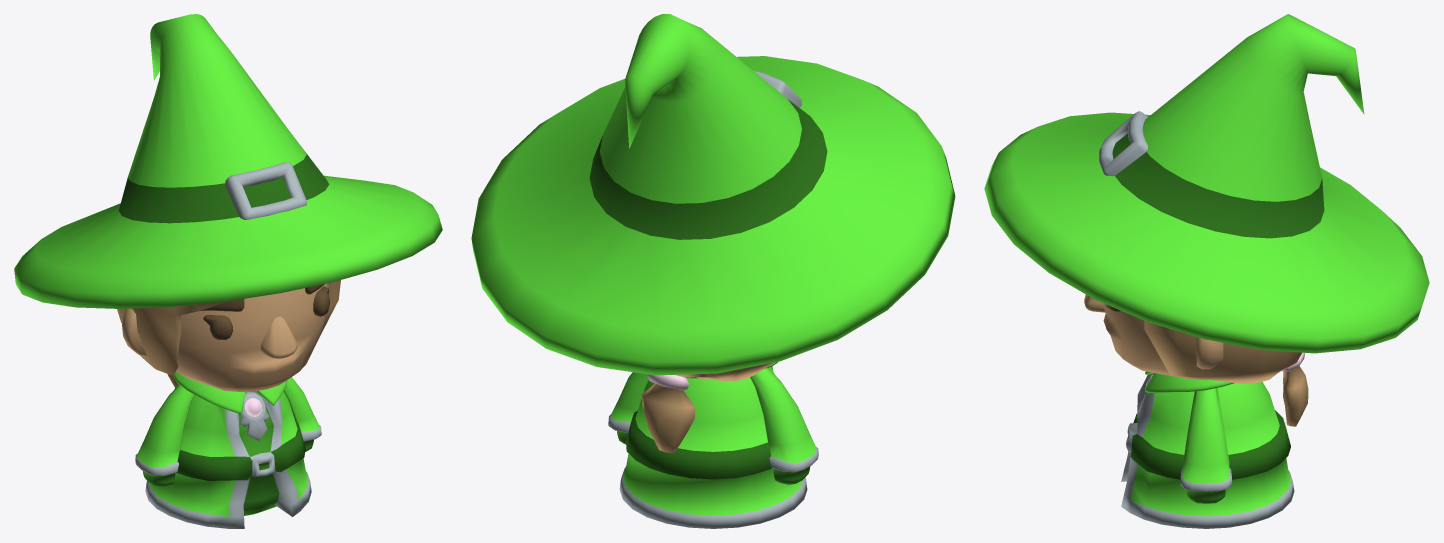
The model's file is mage5.gltf.
The picture shows the model from 3 angles, left to right: view 1: azimuth 30°, elevation 25°; view 2: azimuth 150°, elevation 25°; view 3: azimuth 270°, elevation 25°; orthographic projection. The views are drawn at different scales.
Visible parts, largest first — view 1: character_mageHat, character_mageBody, character_mageHead, character_mageArmRight, character_mageHair, character_mageArnLeft; view 2: character_mageHat, character_mageBody, character_mageArmRight, character_mageHair, character_mageArnLeft; view 3: character_mageHat, character_mageBody, character_mageHair, character_mageArnLeft, character_mageHead.
Part boxes in pixels (x1=…): character_mageHat: x1=14, y1=14, x2=442, y2=308; character_mageBody: x1=145, y1=372, x2=311, y2=528; character_mageHead: x1=122, y1=283, x2=329, y2=391; character_mageArmRight: x1=135, y1=384, x2=194, y2=487; character_mageHair: x1=117, y1=280, x2=340, y2=387; character_mageArnLeft: x1=284, y1=377, x2=321, y2=451; character_mageHat: x1=471, y1=14, x2=955, y2=375; character_mageBody: x1=619, y1=362, x2=807, y2=528; character_mageArmRight: x1=750, y1=368, x2=818, y2=484; character_mageHair: x1=641, y1=362, x2=774, y2=453; character_mageArnLeft: x1=608, y1=372, x2=648, y2=444; character_mageHat: x1=984, y1=14, x2=1429, y2=353; character_mageBody: x1=1121, y1=371, x2=1294, y2=528; character_mageHair: x1=1144, y1=320, x2=1308, y2=426; character_mageArnLeft: x1=1180, y1=388, x2=1231, y2=503; character_mageHead: x1=1084, y1=294, x2=1223, y2=380.
Bounding box in the file's own units: 2.1 × 2.44 × 2.05.
